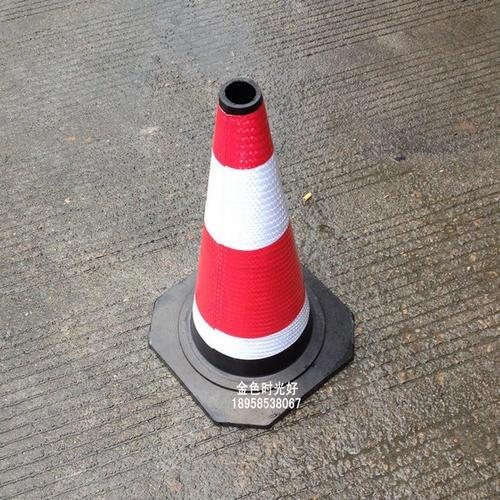cone_barrel: (170, 77, 329, 361)
